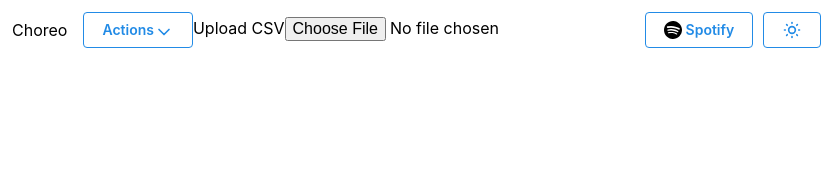
Test: Header › On the spotify platform › On desktop › Renders "Log Out" button when logged in
Hover over the button "Actions" at (138, 30), box [83,12,193,48]
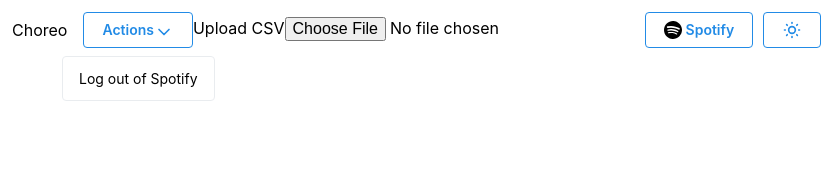
Click the menu item "Log out of Spotify" at (138, 78), box [67,61,209,96]
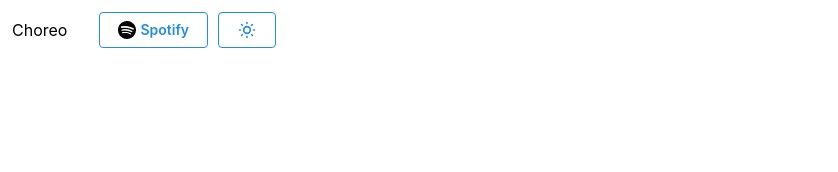
Result: the button "Actions" is gone
